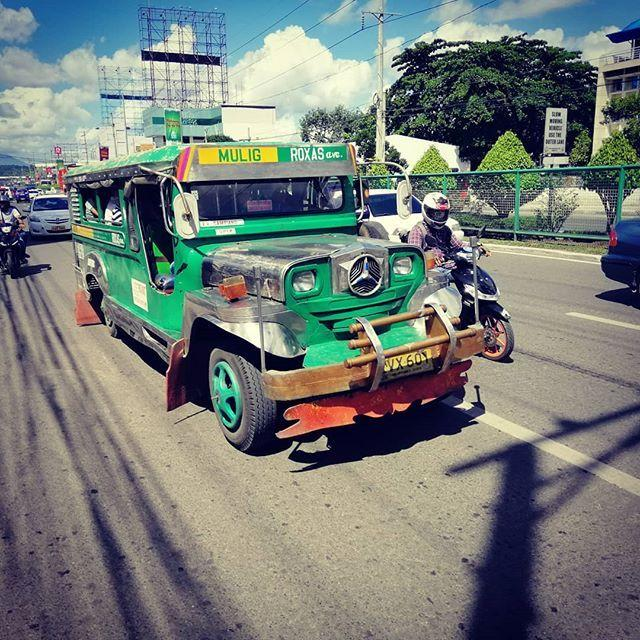Vehicle: (72, 133, 471, 455), (438, 247, 514, 356), (0, 192, 30, 277), (28, 190, 72, 242)
